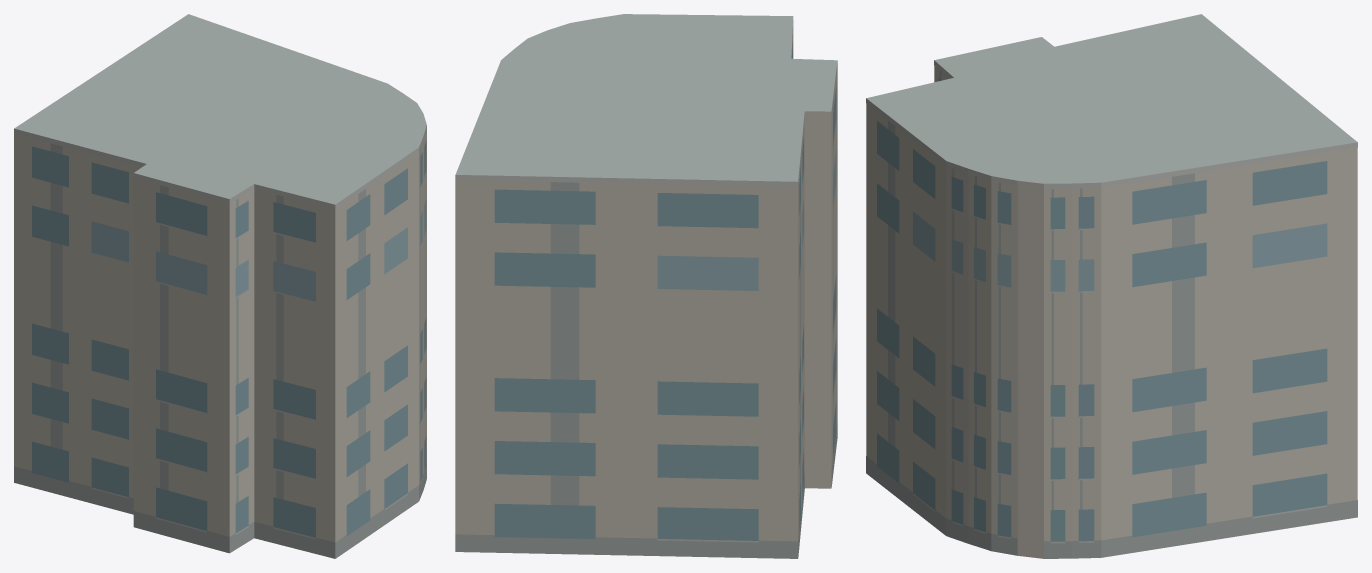
File: survey-upis-32887049.glb
The picture shows the model from 3 angles, left to right: view 1: azimuth 30°, elevation 25°; view 2: azimuth 150°, elevation 25°; view 3: azimuth 270°, elevation 25°; orthographic projection. The views are drawn at different scales.
Parts seen in each view (by area): view 1: survey-upis-32887049.tmp; view 2: survey-upis-32887049.tmp; view 3: survey-upis-32887049.tmp.
Boxes of the visible parts, x1,y1,x2,y2 form: survey-upis-32887049.tmp: [14, 14, 426, 558]; survey-upis-32887049.tmp: [455, 14, 837, 558]; survey-upis-32887049.tmp: [866, 14, 1357, 558].
Bounding box in the file's own units: 16.95 × 17.45 × 20.74.
